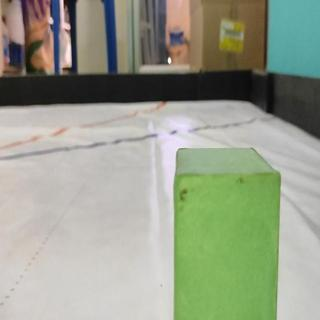greenbox: (171, 144, 281, 320)
